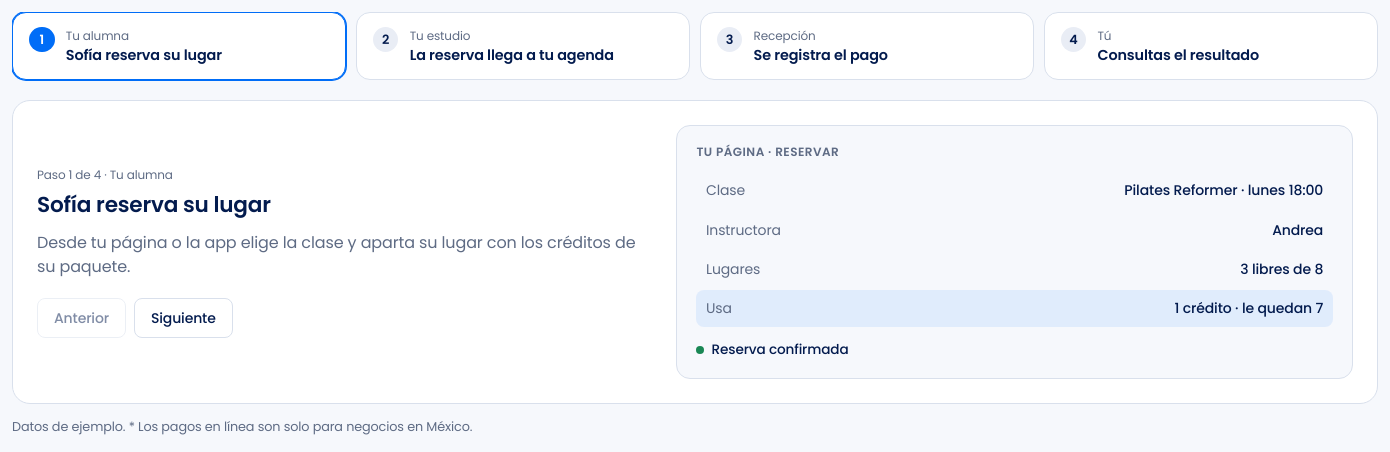
Test: recorrido de principio a fin › clases: cuatro pasos con la misma alumna y la misma clase, sin hablar de citas
Check: the panel shows "Sofía reserva su lugar", box [37, 189, 271, 220]
Step 1. Click the button "Siguiente" → (183, 318), box [134, 298, 233, 338]
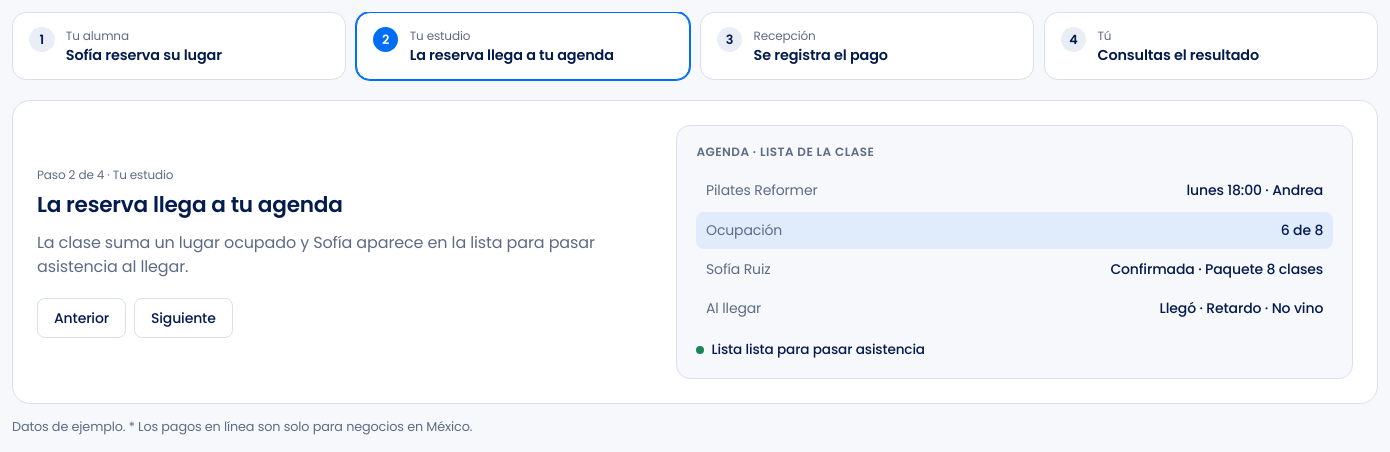
Check: the panel shows "Pilates Reformer", box [706, 180, 818, 200]
Check: the tab "2 Tu estudio La reserva llega a tu agenda" is selected, box [356, 12, 690, 80]
Step 2. Click the tab "4 Tú Consultas el resultado" → (1211, 46), box [1044, 12, 1378, 80]
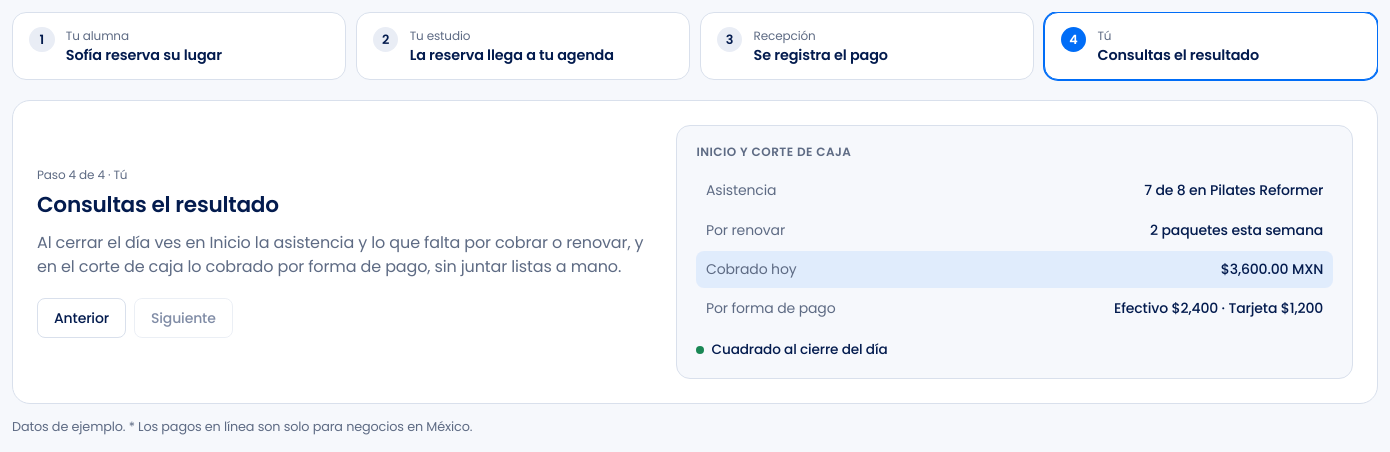
Check: the text "Datos de ejemplo" is shown, box [12, 418, 472, 435]
Check: the panel shows "corte de caja", box [37, 231, 644, 278]
